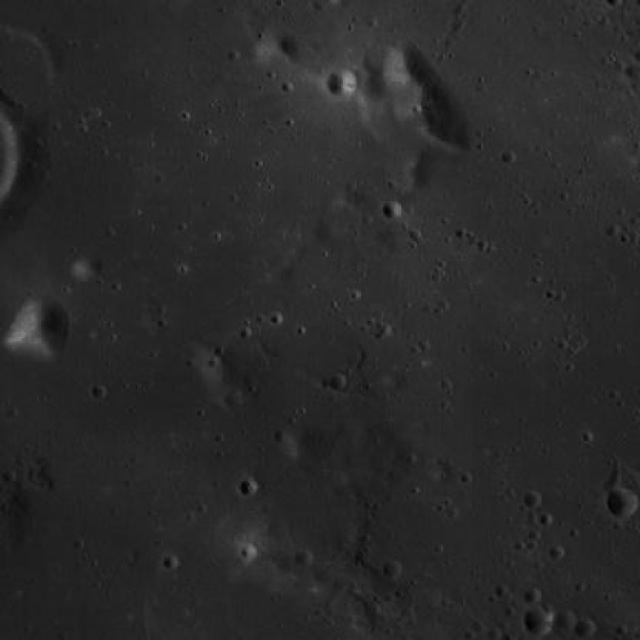crater: (0, 32, 57, 110), (364, 70, 401, 104), (364, 46, 400, 80), (607, 488, 640, 519), (328, 68, 358, 98), (526, 608, 556, 636), (311, 216, 338, 242), (226, 390, 246, 410), (241, 478, 261, 497), (382, 202, 402, 221), (557, 610, 577, 628), (524, 492, 544, 510), (578, 623, 598, 640), (386, 560, 404, 578), (330, 373, 348, 390), (296, 552, 315, 568), (527, 589, 544, 605), (242, 544, 258, 561)
